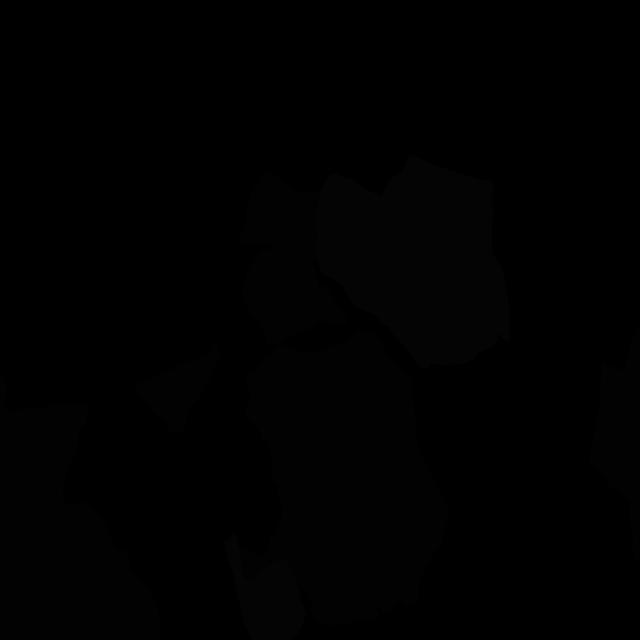cardboard: (241, 330, 448, 626), (0, 374, 161, 640), (588, 322, 640, 568), (242, 249, 348, 345), (7, 402, 89, 503), (133, 343, 221, 435), (238, 171, 320, 261)
soft_plastic: (316, 156, 511, 369), (224, 532, 306, 640)
